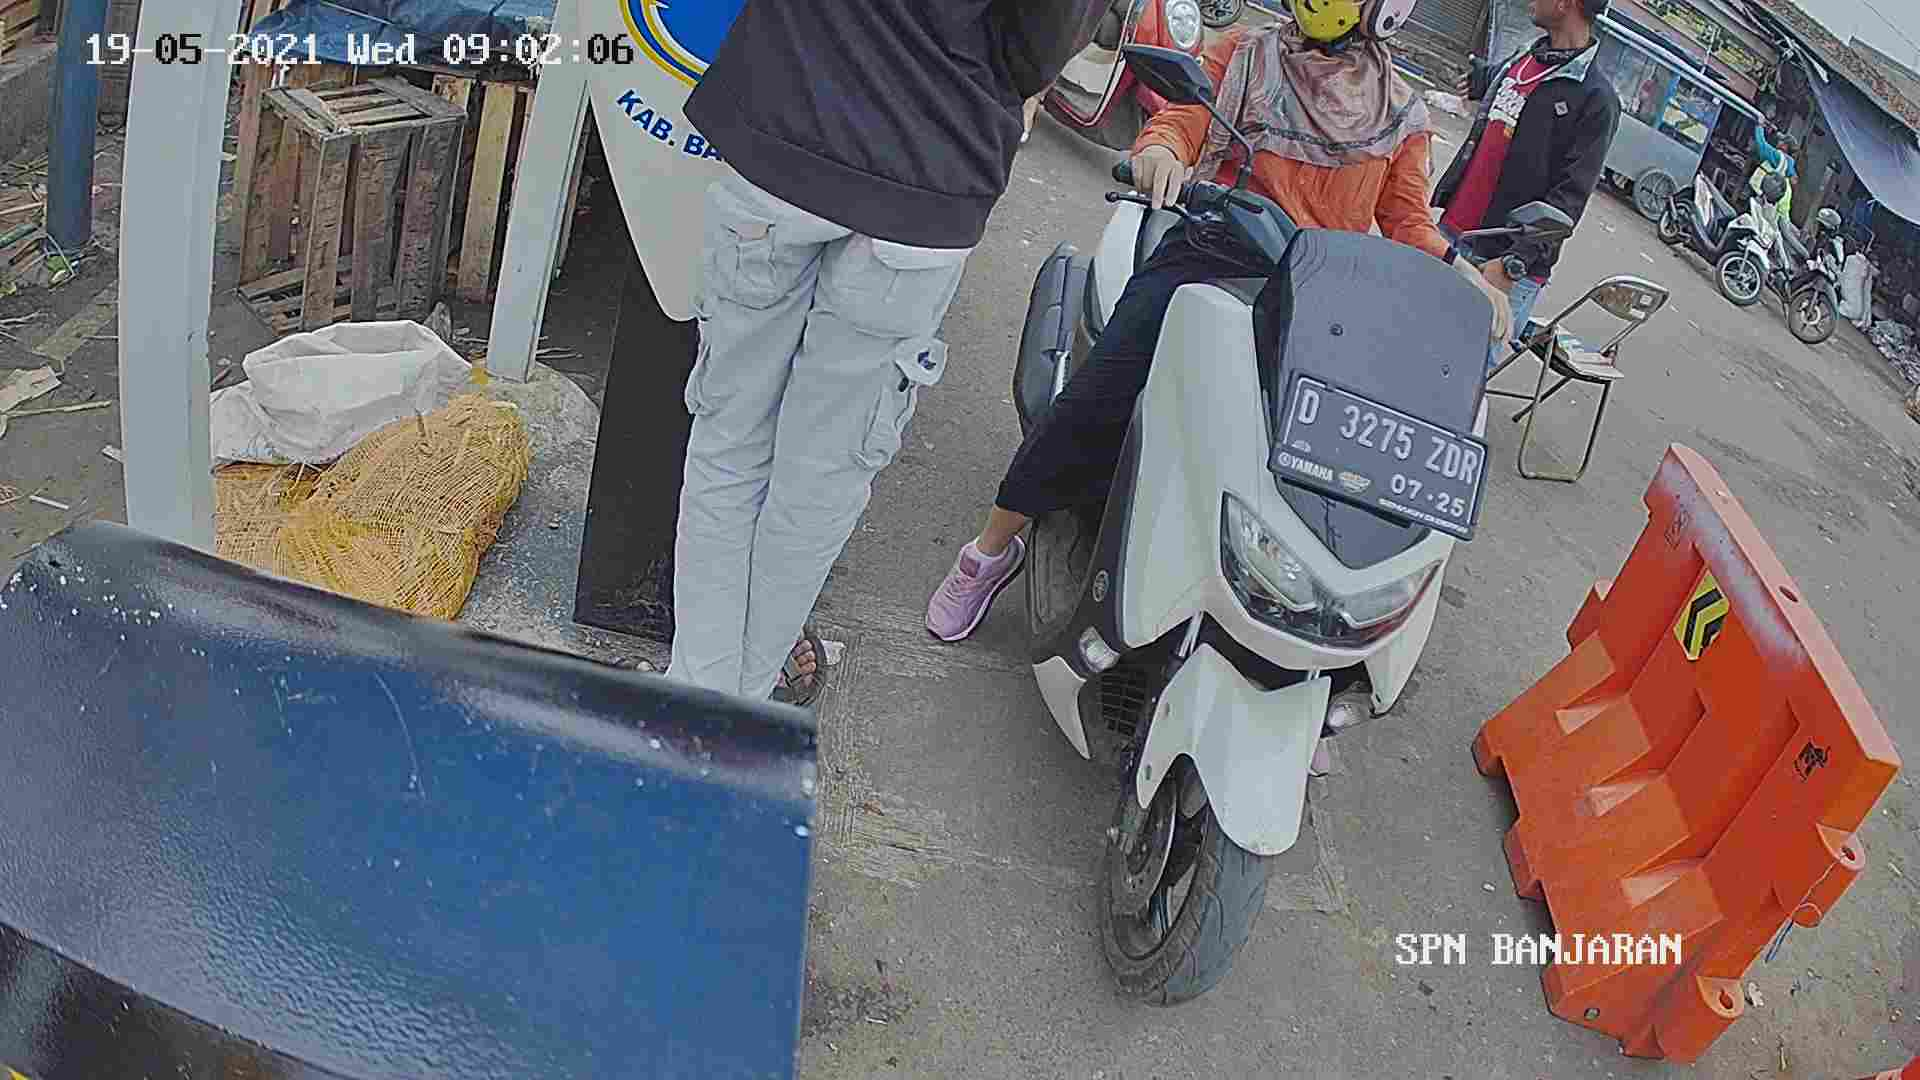motor: (1033, 167, 1489, 963)
